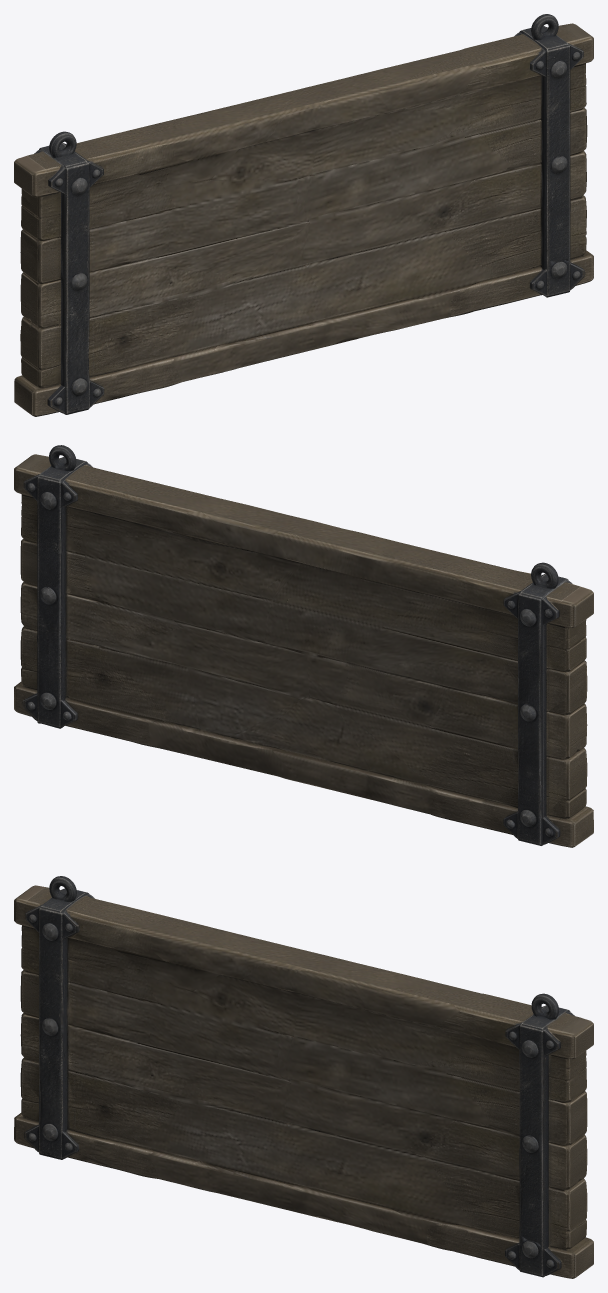
File: Wooden_Sign.fbx
3 renders of one model, top to bottom at view 1: azimuth 30°, elevation 25°; view 2: azimuth 150°, elevation 25°; view 3: azimuth 330°, elevation 25°, orthographic.
Parts seen in each view (by area): view 1: Mesh_0; view 2: Mesh_0; view 3: Mesh_0.
Part boxes in pixels (bbox=[...]): Mesh_0: bbox=[14, 14, 593, 416]; Mesh_0: bbox=[14, 445, 593, 847]; Mesh_0: bbox=[14, 876, 593, 1278].
Bounding box in the file's own units: 190 × 87.5 × 19.65.
Materials: 1 (1 with a texture image).
